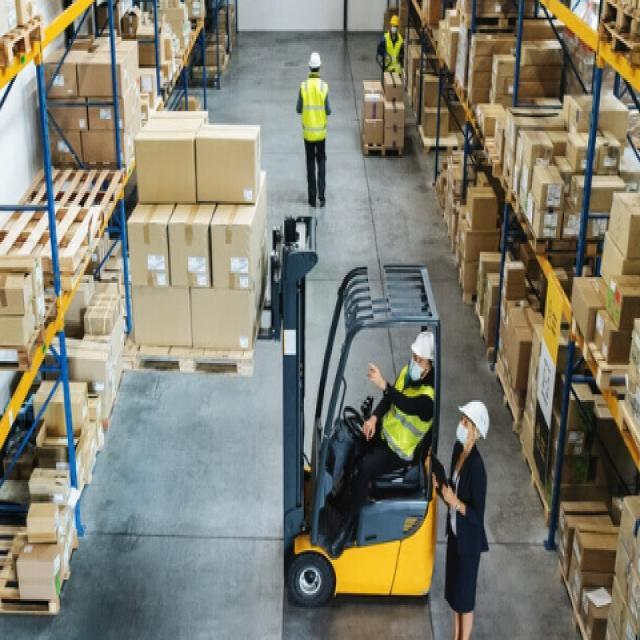hard_hat: (456, 399, 490, 447), (411, 328, 437, 380), (306, 50, 323, 76), (387, 14, 400, 34)
shoes: (326, 503, 356, 563), (306, 196, 329, 210)
vest: (380, 362, 437, 466), (301, 78, 330, 144), (382, 31, 404, 71)
